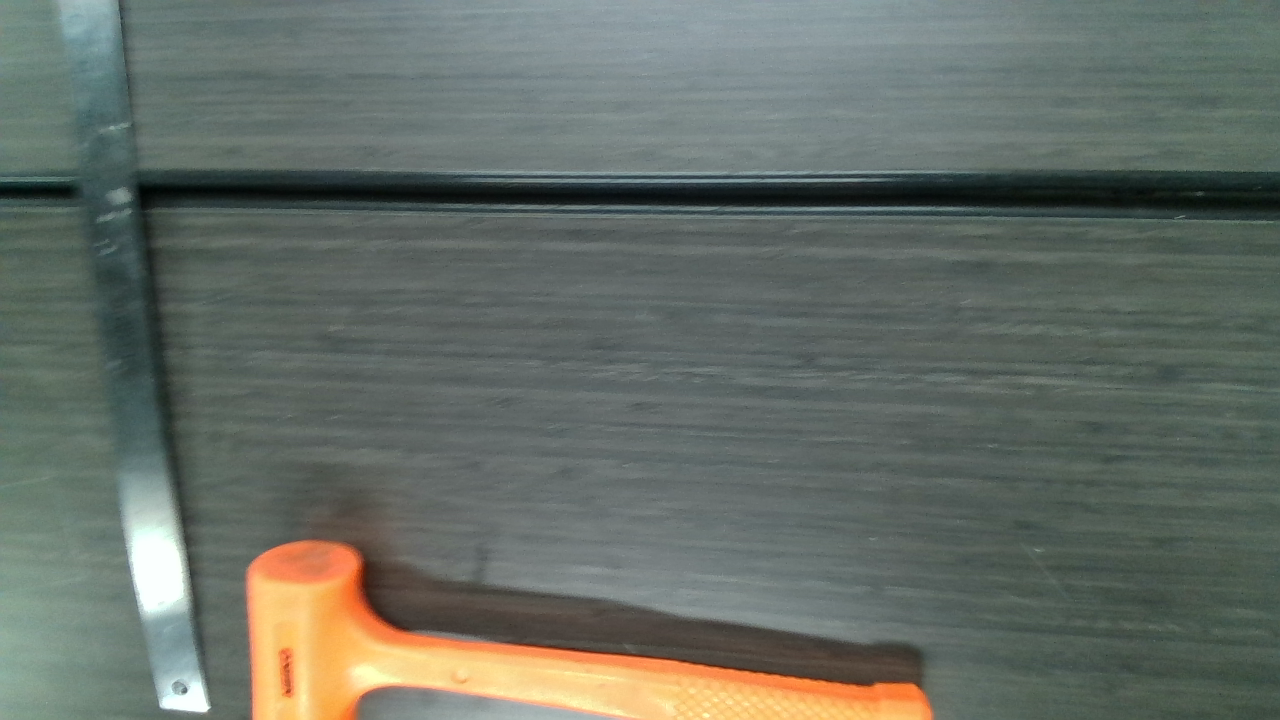Orange Hammer: (253, 541, 935, 718)
